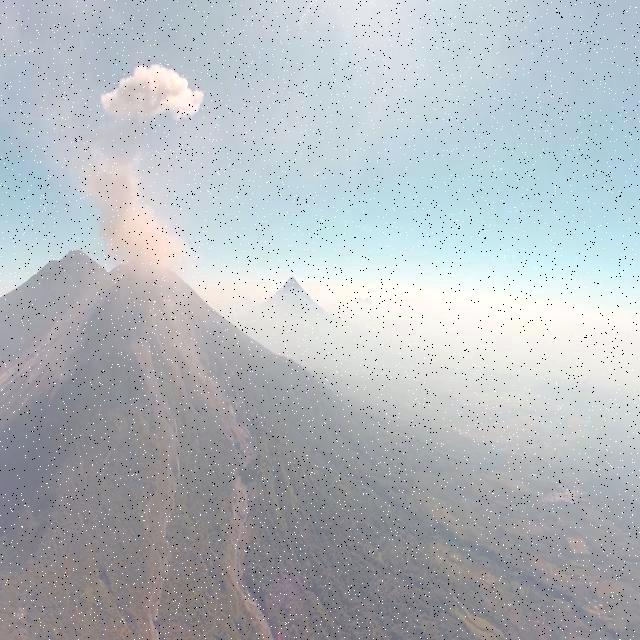Plume: (76, 140, 196, 277), (102, 58, 212, 127)
